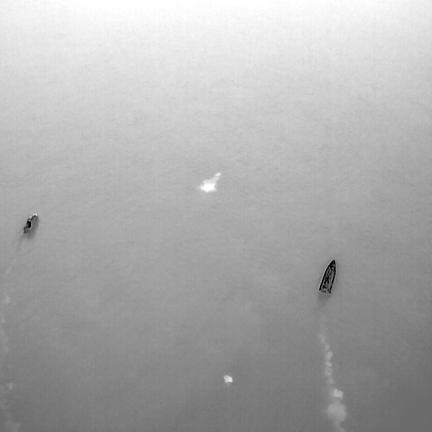flukeprints: (198, 173, 220, 192), (223, 375, 232, 383)
